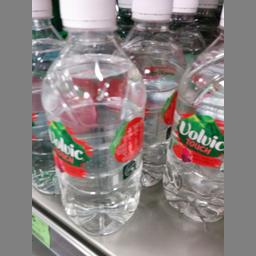water: (37, 0, 144, 235), (161, 4, 223, 222)
